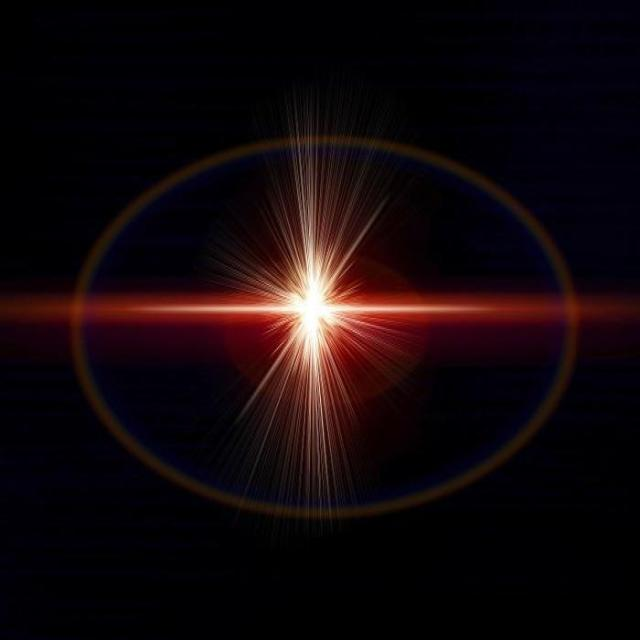other: (211, 189, 458, 416)
